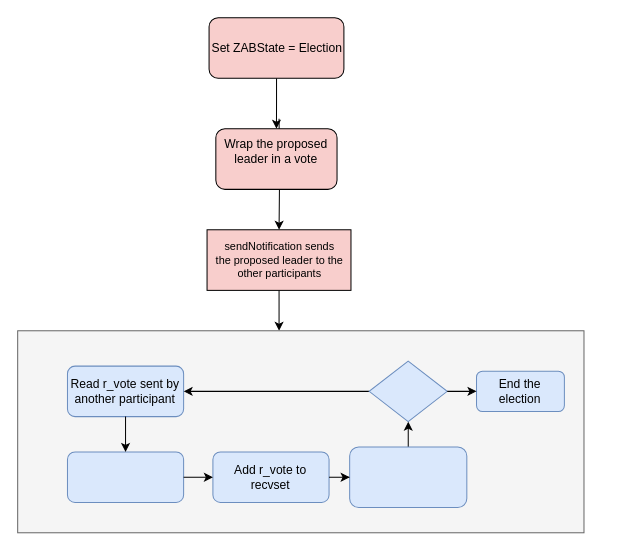
Image size: 621x550. Some labels were removed from this diagram. The shapes that lost their labels are listed below. From the top down, each one's centre as x and y in pixels, then its label:
At point (407, 391): "Elected Leader".
At point (125, 476): "Adopt r_vote if the election rules prefer it".
At point (408, 477): "voteTracker: has our proposal won?".
